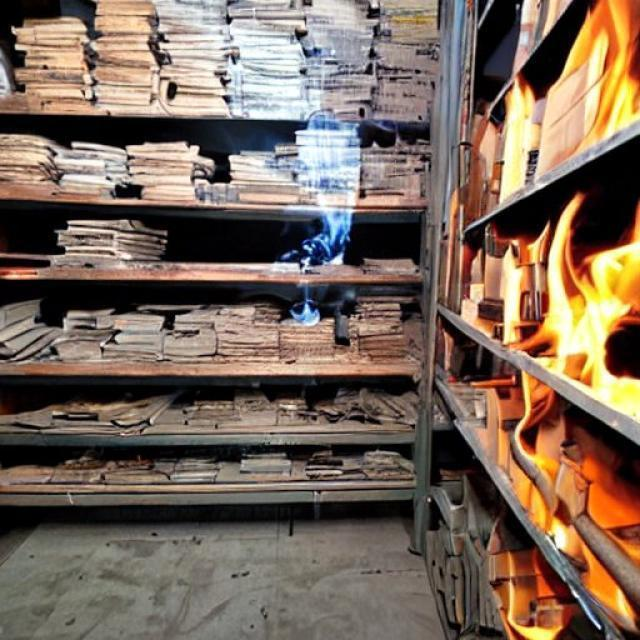Smoke: (283, 64, 376, 232)
